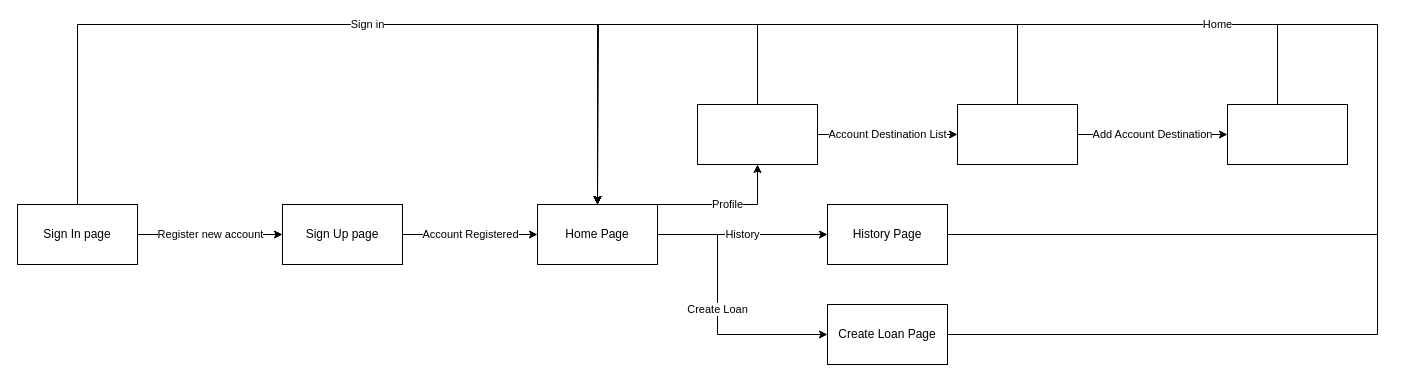
Image size: 1403x382. Some labels were removed from this diagram. Here are the shapes that lost their labels. From the top down, the centre of each, then its label:
At point (757, 134): "Profile Page".
At point (1017, 134): "Account Destination List Page".
At point (1287, 134): "Add Account Destination Page".
